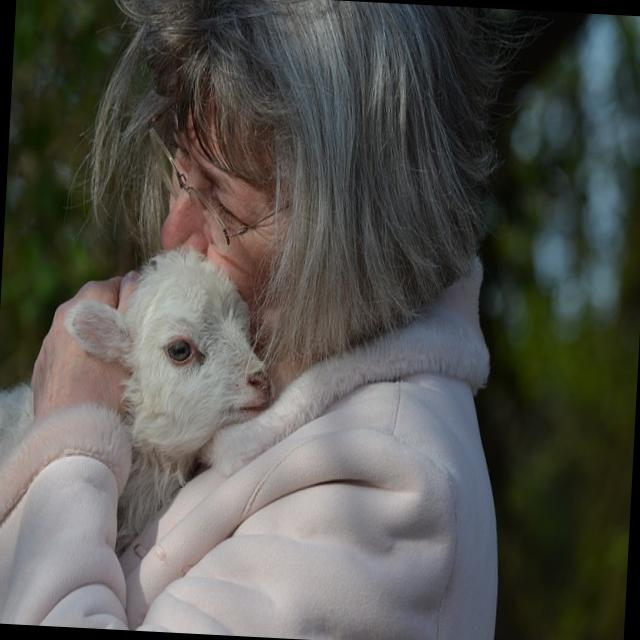sheep: (0, 239, 279, 566)
